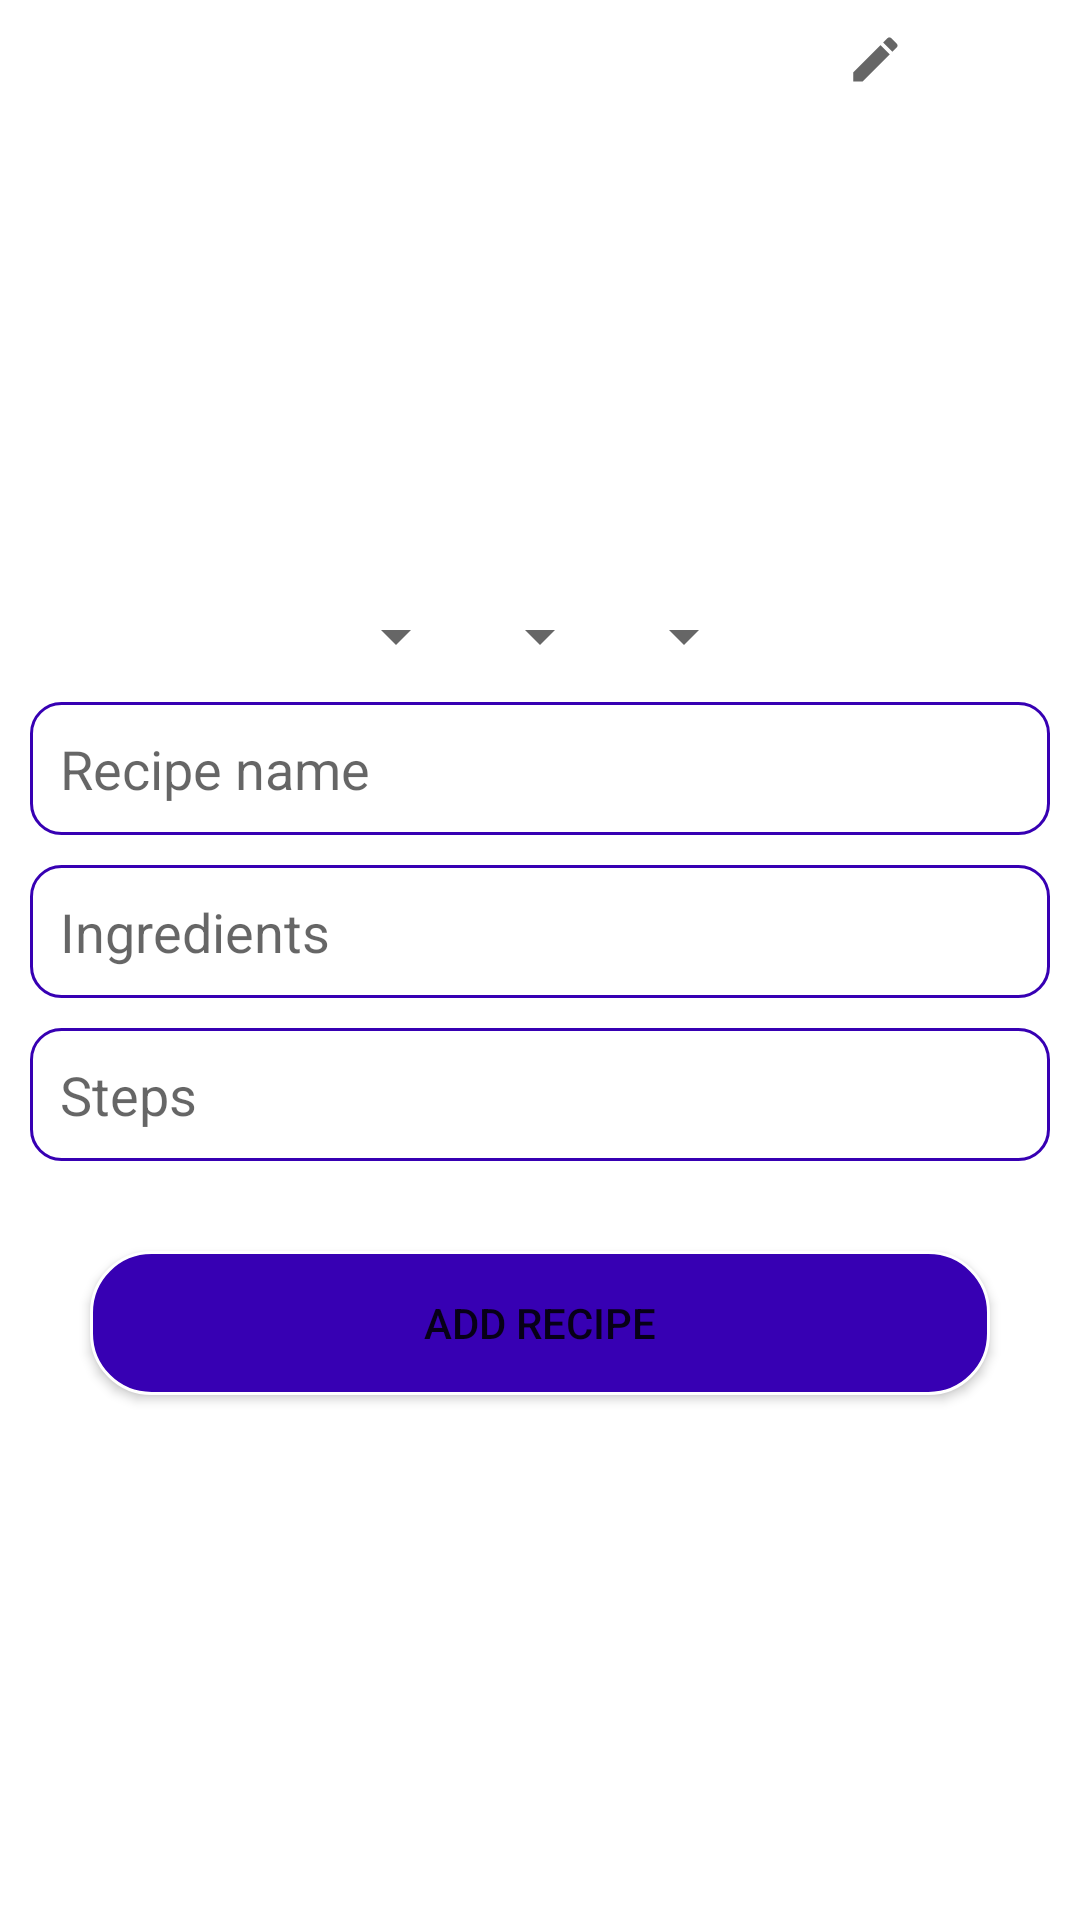

Point at icon controls on the screen. Image size 1080px x 1920px, points as point (x, y).
edit: point (875, 59)
